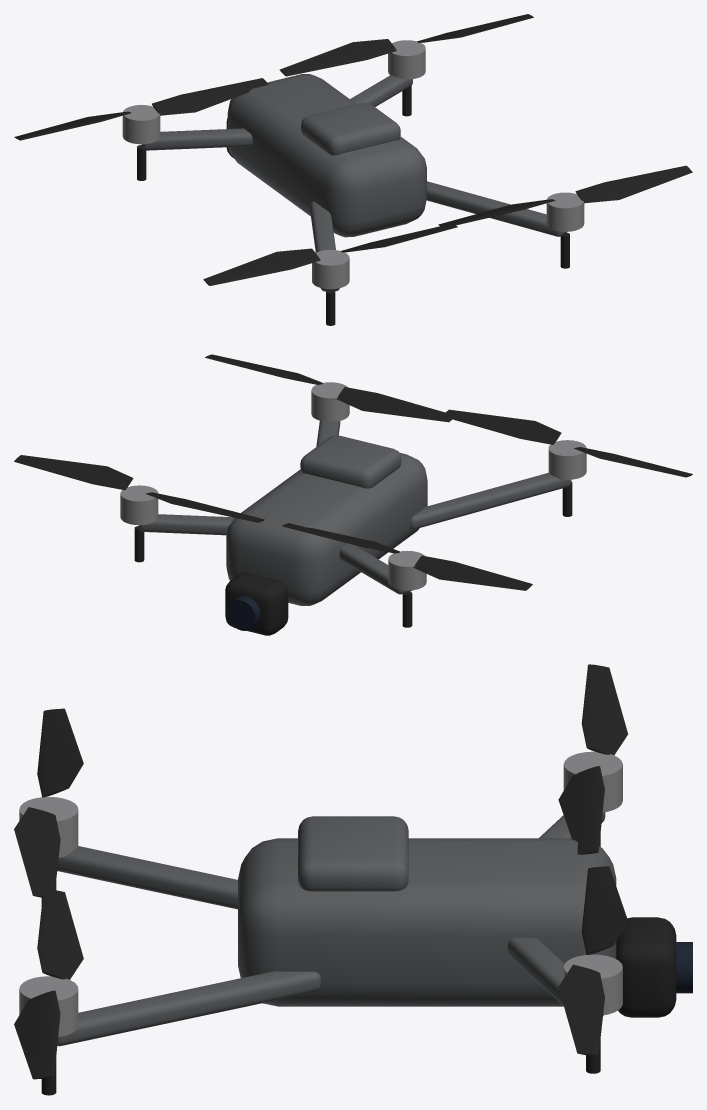
The model's file is quadcopter.glb.
3 views of the same model, one above another, from view 1: azimuth 30°, elevation 25°; view 2: azimuth 150°, elevation 25°; view 3: azimuth 270°, elevation 25° (orthographic). The views are drawn at different scales.
Visible parts, largest first — view 1: airframe, prop_FR, prop_RL, prop_RR, prop_FL; view 2: airframe, prop_FR, prop_FL, prop_RR, prop_RL; view 3: airframe, prop_FR, prop_RR, prop_FL, prop_RL.
Boxes of the visible parts, x1,y1,x2,y2 form: airframe: (122,40,584,325); prop_FR: (279,14,533,76); prop_RL: (203,224,457,285); prop_RR: (438,165,692,226); prop_FL: (14,78,268,140); airframe: (120,382,586,635); prop_FR: (14,455,264,522); prop_FL: (282,523,532,590); prop_RR: (205,354,452,422); prop_RL: (445,409,692,477); airframe: (19,751,692,1095); prop_FR: (558,866,628,1056); prop_RR: (14,889,83,1079); prop_FL: (558,664,627,854); prop_RL: (14,708,83,897).
Bounding box in the file's own units: 0.5 × 0.099 × 0.3679.
